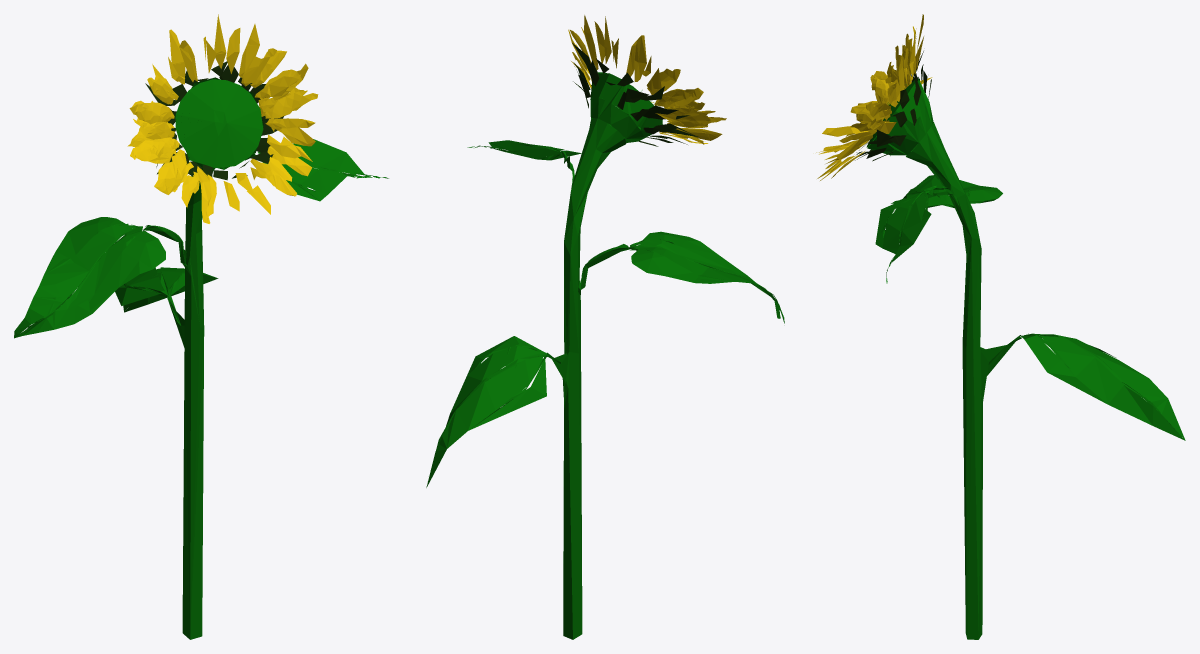
Rendered from sunflower.dae.
3 views of the same model, side by side, from view 1: azimuth 30°, elevation 25°; view 2: azimuth 150°, elevation 25°; view 3: azimuth 270°, elevation 25° (orthographic). The views are drawn at different scales.
Visible parts, largest first — view 1: Mesh_038, Mesh_023, Mesh_006, Mesh_044, Mesh_077, Mesh_045, Mesh_072; view 2: Mesh_038, Mesh_045, Mesh_023, Mesh_006, Mesh_048, Mesh_077, Mesh_072, Mesh_044; view 3: Mesh_038, Mesh_045, Mesh_023, Mesh_044, Mesh_048, Mesh_006, Mesh_077, Mesh_072.
Boxes of the visible parts, x1=… form: Mesh_038: x1=143, y1=79, x2=263, y2=639; Mesh_023: x1=127, y1=14, x2=318, y2=223; Mesh_006: x1=14, y1=217, x2=165, y2=338; Mesh_044: x1=263, y1=139, x2=374, y2=201; Mesh_077: x1=145, y1=61, x2=283, y2=180; Mesh_045: x1=115, y1=267, x2=218, y2=312; Mesh_072: x1=27, y1=143, x2=388, y2=328; Mesh_038: x1=547, y1=72, x2=662, y2=639; Mesh_045: x1=426, y1=336, x2=546, y2=487; Mesh_023: x1=568, y1=15, x2=726, y2=144; Mesh_006: x1=628, y1=231, x2=784, y2=323; Mesh_048: x1=590, y1=73, x2=662, y2=142; Mesh_077: x1=572, y1=43, x2=699, y2=146; Mesh_072: x1=438, y1=143, x2=780, y2=444; Mesh_044: x1=467, y1=140, x2=581, y2=160; Mesh_038: x1=866, y1=80, x2=1021, y2=639; Mesh_045: x1=1020, y1=333, x2=1185, y2=440; Mesh_023: x1=817, y1=14, x2=932, y2=180; Mesh_044: x1=875, y1=193, x2=931, y2=283; Mesh_048: x1=867, y1=78, x2=933, y2=155; Mesh_006: x1=891, y1=175, x2=1002, y2=208; Mesh_077: x1=855, y1=51, x2=931, y2=161; Mesh_072: x1=883, y1=188, x2=1183, y2=438.
Size of the model in its own units: 0.4803 by 0.4541 by 0.8163.
